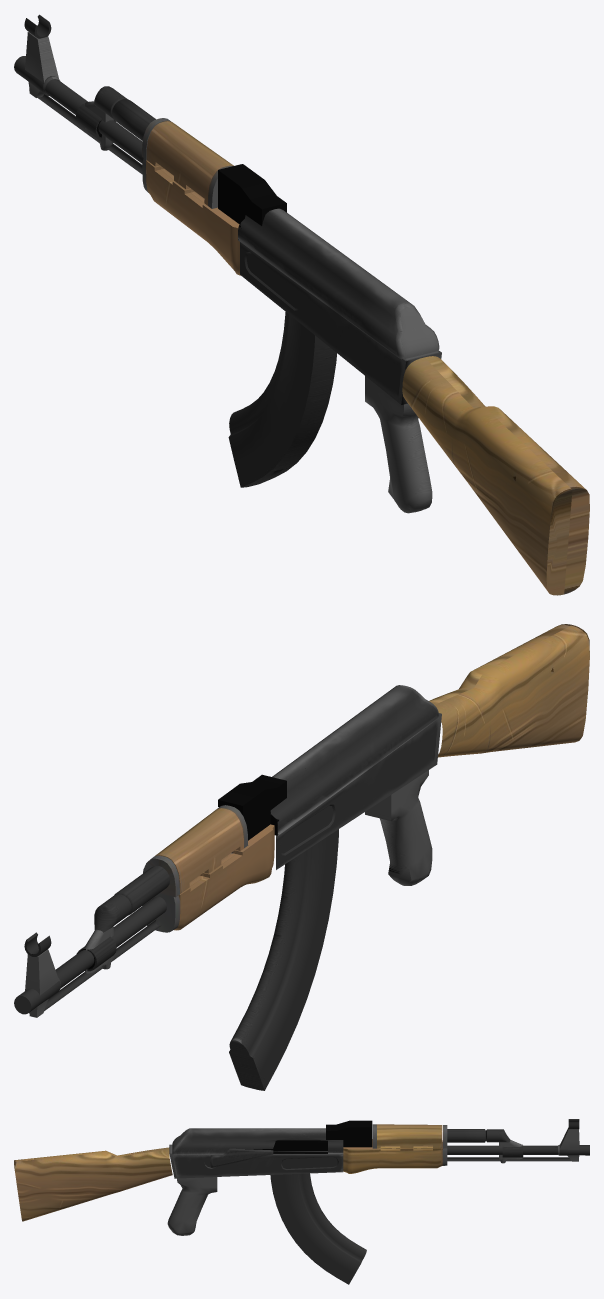
File: rifle.glb
3 views of the same model, one above another, from view 1: azimuth 30°, elevation 25°; view 2: azimuth 150°, elevation 25°; view 3: azimuth 270°, elevation 25° (orthographic). The views are drawn at different scales.
Parts seen in each view (by area): view 1: AK47; view 2: AK47; view 3: AK47.
Part boxes in pixels (box(x1,y1,x2,y2)): AK47: box(14, 14, 589, 595); AK47: box(14, 624, 589, 1090); AK47: box(14, 1119, 589, 1284).
Bounding box in the file's own units: 0.0402 × 0.2725 × 0.88.
1 material, 1 textured.
